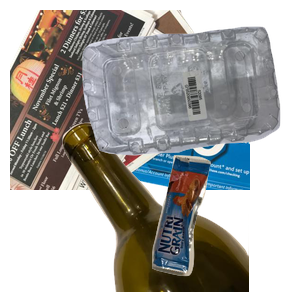glass: (60, 120, 300, 300)
paper: (10, 10, 250, 190)
plastic: (80, 24, 300, 172)
trash: (149, 152, 300, 300)
